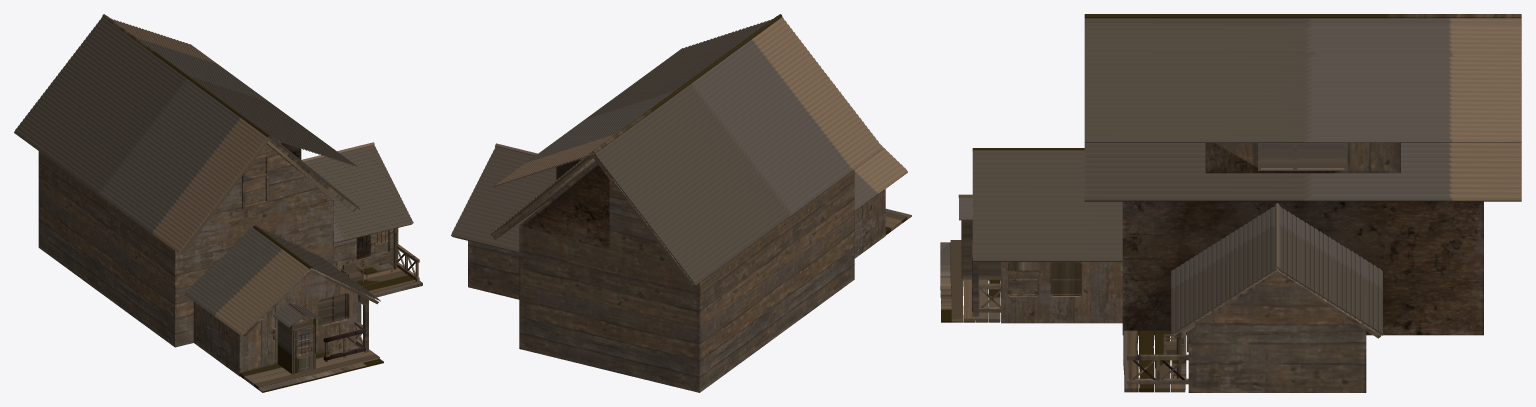
File: HOUSEadrianaTextured03.fbx
The picture shows the model from 3 angles, left to right: view 1: azimuth 30°, elevation 25°; view 2: azimuth 150°, elevation 25°; view 3: azimuth 270°, elevation 25°; orthographic projection. The views are drawn at different scales.
Parts seen in each view (by area): view 1: MainPartBig, MainPartFront, Krisha (×2), mainupready22 (×2), bigPartRIGHT, pCube4 (×2), window1, mainSMallest, mainupready34, mainupready2, mainupready10, mainupready (+36 smaller); view 2: MainPartBig, mainupready22 (×4), bigPartRIGHT, Krisha, mainupready17 (×2), mainupready19 (×2), mainupready4 (×2), mainupready6 (×2), mainupready8 (×2), mainupready10 (×2), mainupready11 (×2), mainupready13 (×2) (+28 smaller); view 3: MainPartBig, bigPartRIGHT, MainPartFront, mainupready27 (×2), mainupready26 (×2), mainupready25 (×2), MainPartSmallUp, mainupready34, mainupready24 (×2), mainupready22 (×2), mainupready (×2), mainupready4 (×2) (+37 smaller).
Part boxes in pixels (x1,y1,x2,y2): MainPartBig: (38,144,333,347); MainPartFront: (193,271,361,376); Krisha (×2): (179,137,378,336); mainupready22 (×2): (45,89,243,335); bigPartRIGHT: (337,228,398,274); pCube4 (×2): (254,279,422,389); window1: (242,154,268,208); mainSMallest: (277,311,315,374); mainupready34: (14,128,181,253); mainupready2: (95,23,262,148); mainupready10: (75,49,241,174); mainupready: (100,17,267,141); MainPartBig: (519,162,854,392); mainupready22 (×4): (451,42,907,252); bigPartRIGHT: (468,241,519,299); Krisha: (492,154,694,287); mainupready17 (×2): (528,36,833,222); mainupready19 (×2): (521,38,839,230); mainupready4 (×2): (575,21,796,174); mainupready6 (×2): (568,23,801,181); mainupready8 (×2): (560,26,807,189); mainupready10 (×2): (553,28,813,196); mainupready11 (×2): (550,29,816,200); mainupready13 (×2): (542,31,821,207); MainPartBig: (1122,201,1483,335); bigPartRIGHT: (1188,273,1366,392); MainPartFront: (1001,261,1122,323); mainupready27 (×2): (1084,136,1521,162); mainupready26 (×2): (1084,131,1521,157); mainupready25 (×2): (1084,127,1521,152); MainPartSmallUp: (1205,143,1400,173); mainupready34: (1084,194,1521,201); mainupready24 (×2): (1084,123,1521,147); mainupready22 (×2): (973,114,1521,261); mainupready (×2): (973,18,1521,155); mainupready4 (×2): (973,34,1521,174).
Size of the model in its own units: 19.61 by 14.27 by 27.86.
